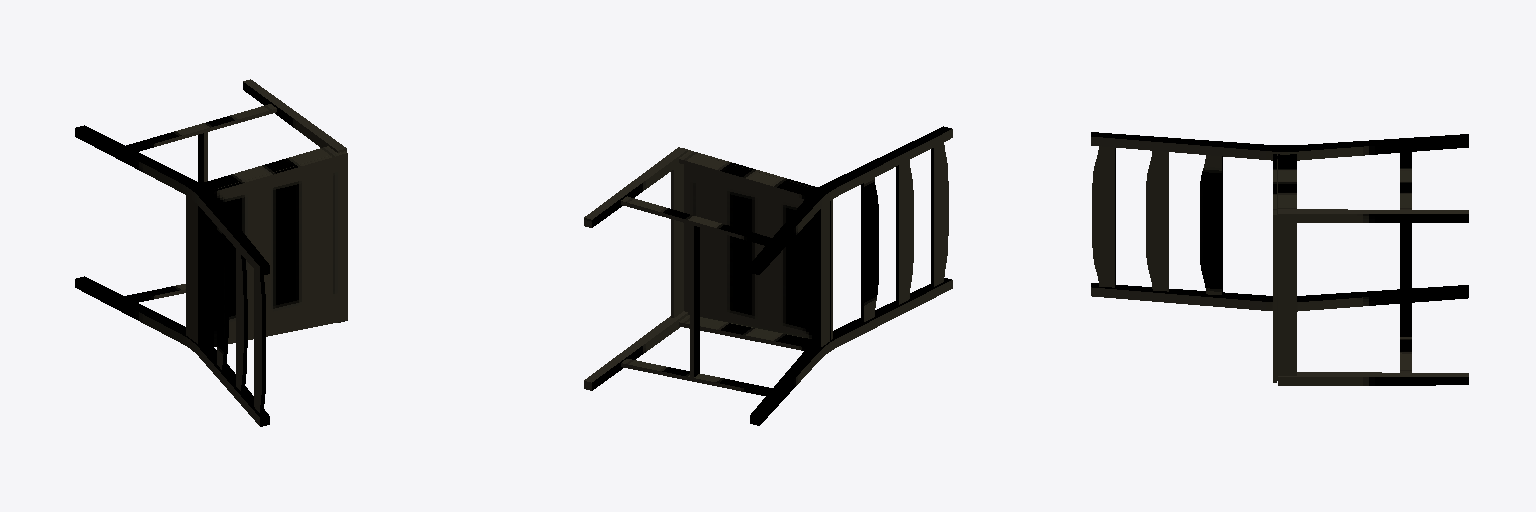
3 views of the same model, side by side, from view 1: azimuth 30°, elevation 25°; view 2: azimuth 150°, elevation 25°; view 3: azimuth 270°, elevation 25° (orthographic).
Bounding box in the file's own units: 0.4935 × 0.4506 × 0.8967.
Materials: 1 (1 with a texture image).